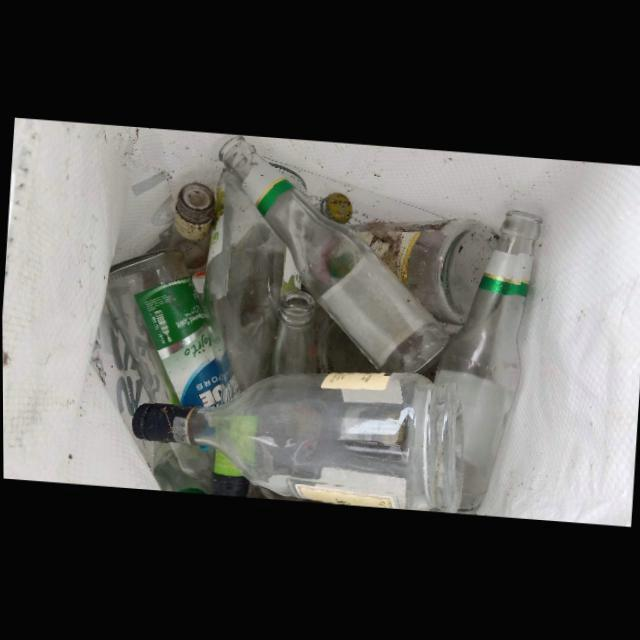glass_bottle: (217, 135, 448, 372), (131, 372, 464, 513), (435, 196, 542, 510), (205, 167, 301, 403), (105, 250, 220, 407), (353, 217, 499, 328), (171, 182, 214, 293), (265, 290, 319, 375)
